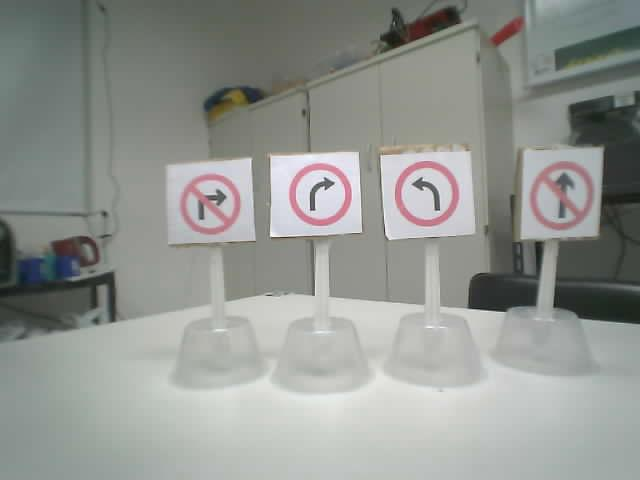R-25a_esquerda: (393, 160, 459, 227)
R-25b_direita: (286, 162, 352, 226)
R-3_sentido-proibido: (528, 160, 594, 231)
R-4b_proibido-direita: (180, 172, 241, 234)
